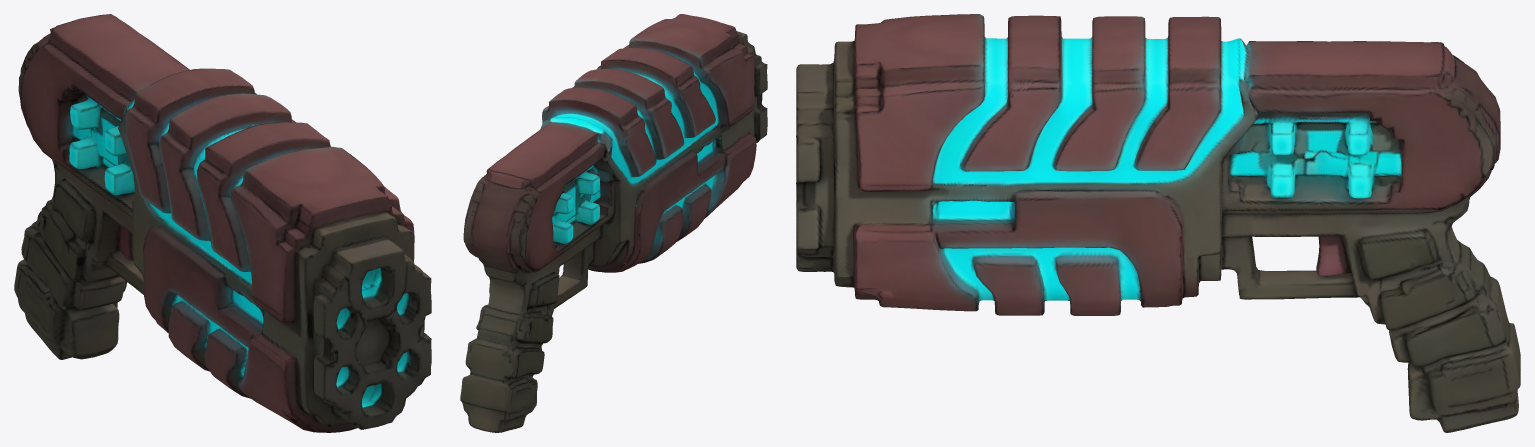
Rendered from base_basic_shaded.fbx.
3 views of the same model, side by side, from view 1: azimuth 30°, elevation 25°; view 2: azimuth 150°, elevation 25°; view 3: azimuth 270°, elevation 25° (orthographic). The views are drawn at different scales.
Parts seen in each view (by area): view 1: model; view 2: model; view 3: model.
Part boxes in pixels (x1,y1,x2,y2): model: (14,14,431,432); model: (460,14,767,432); model: (796,14,1520,432).
Bounding box in the file's own units: 43.79 × 113 × 190.
